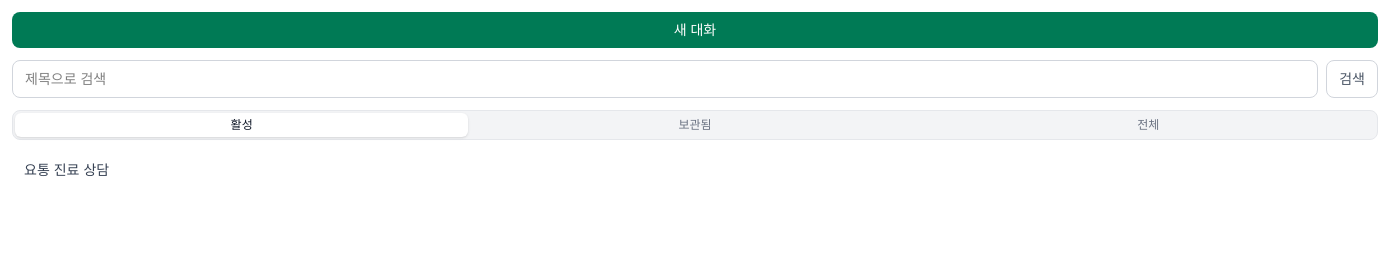
Test: 대화 삭제 › 삭제에 실패하면 확인을 닫지 않고 실패를 알린다
Click the button "요통 진료 상담".
click(67, 170)  # box [12,152,1378,188]
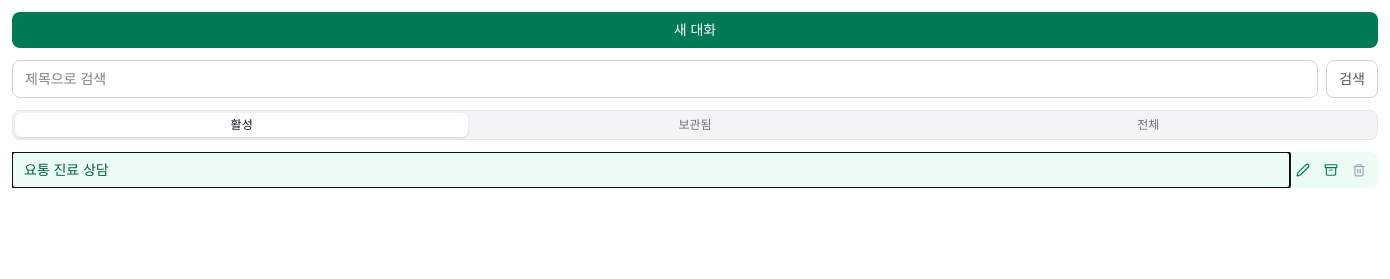
Click the button named "삭제".
click(1359, 170)  # box [1346,157,1372,183]
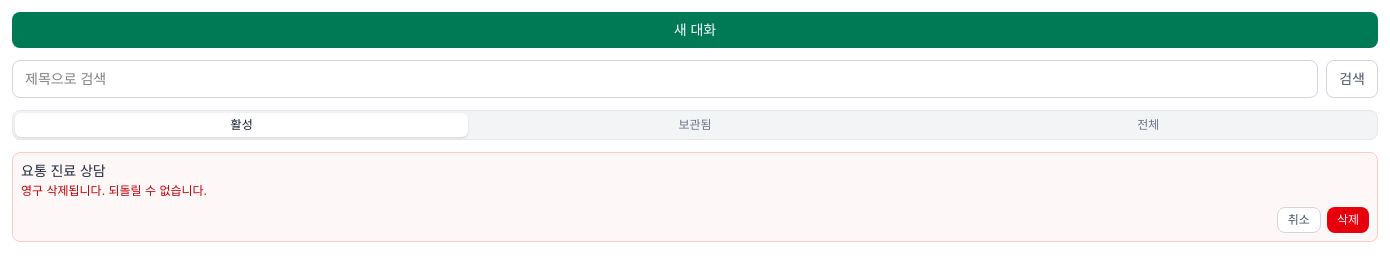
Click the button "삭제".
click(1348, 220)  # box [1327,207,1369,233]
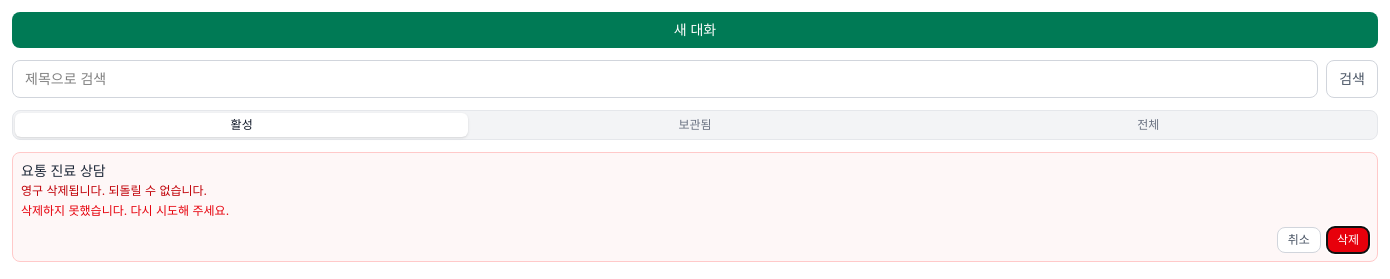
expect the text "영구 삭제됩니다. 되돌릴 수 없습니다." is shown: met, box [21,183,207,198]
expect the message "삭제하지 못했습니다. 다시 시도해 주세요." is shown: met, box [21,203,229,218]
